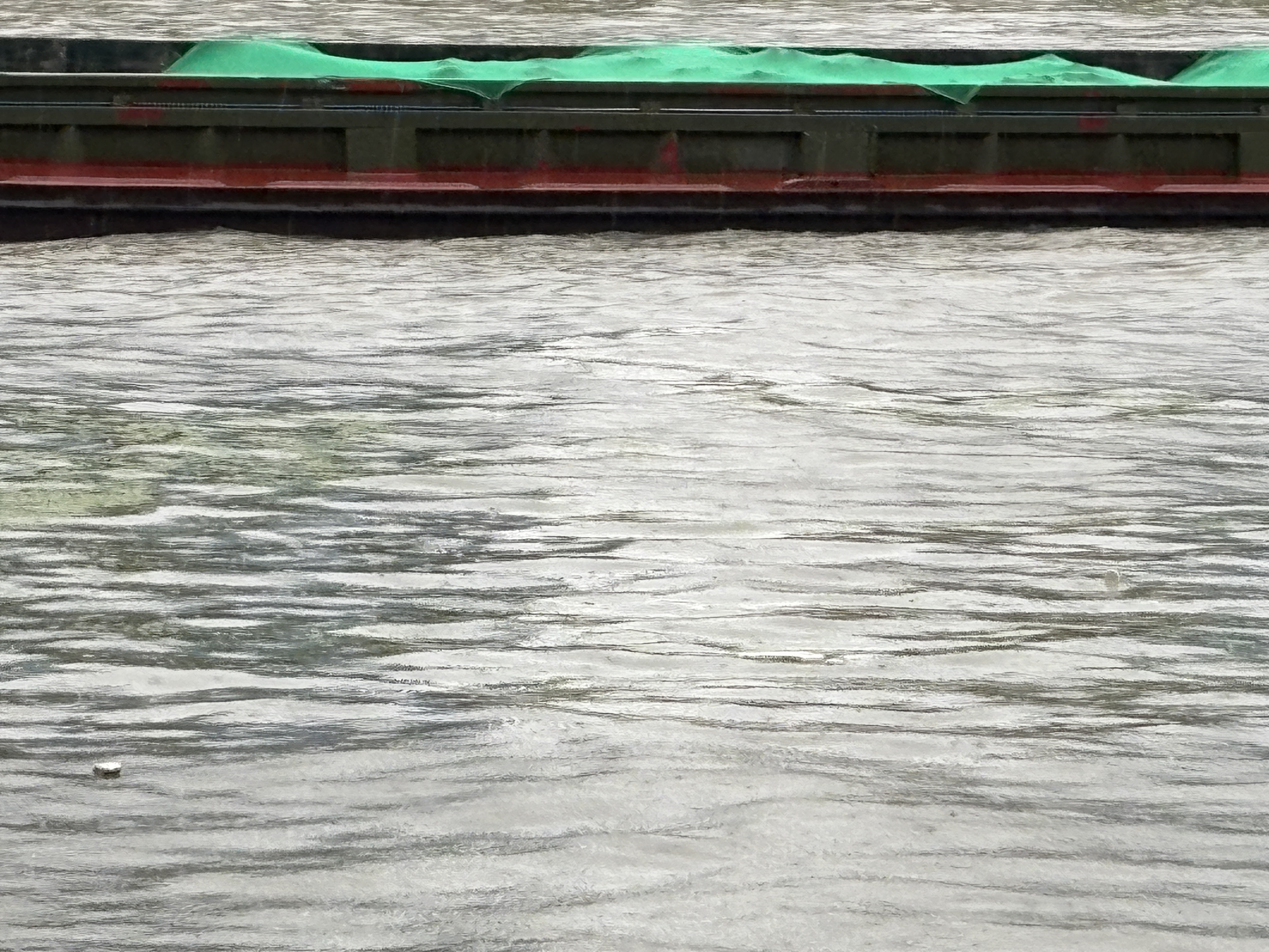Plastic wastes: (1148, 175, 1178, 198)
